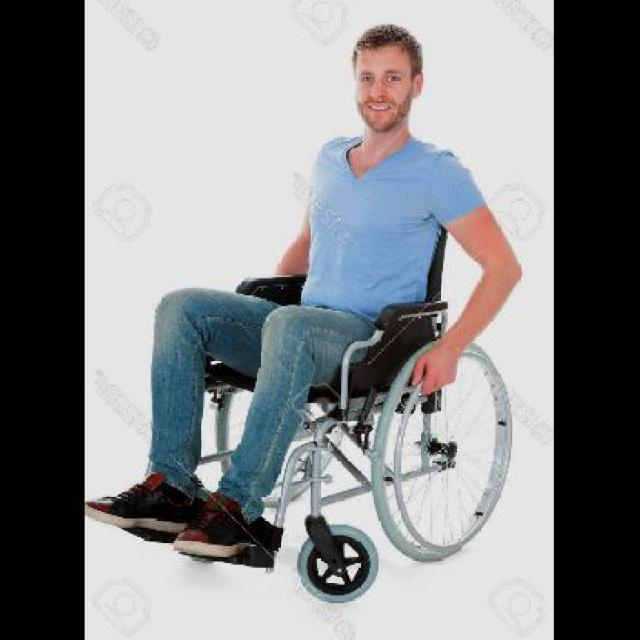wheelchairs: (110, 171, 526, 609)
